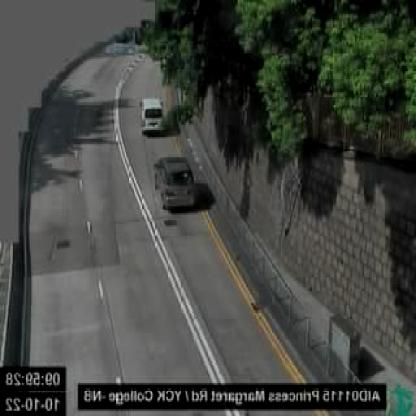Car: (154, 152, 193, 210), (140, 93, 165, 134)
